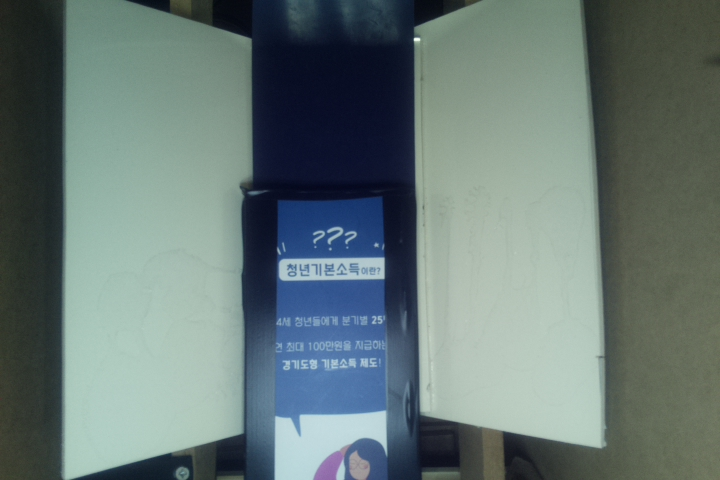book: (239, 178, 418, 480)
